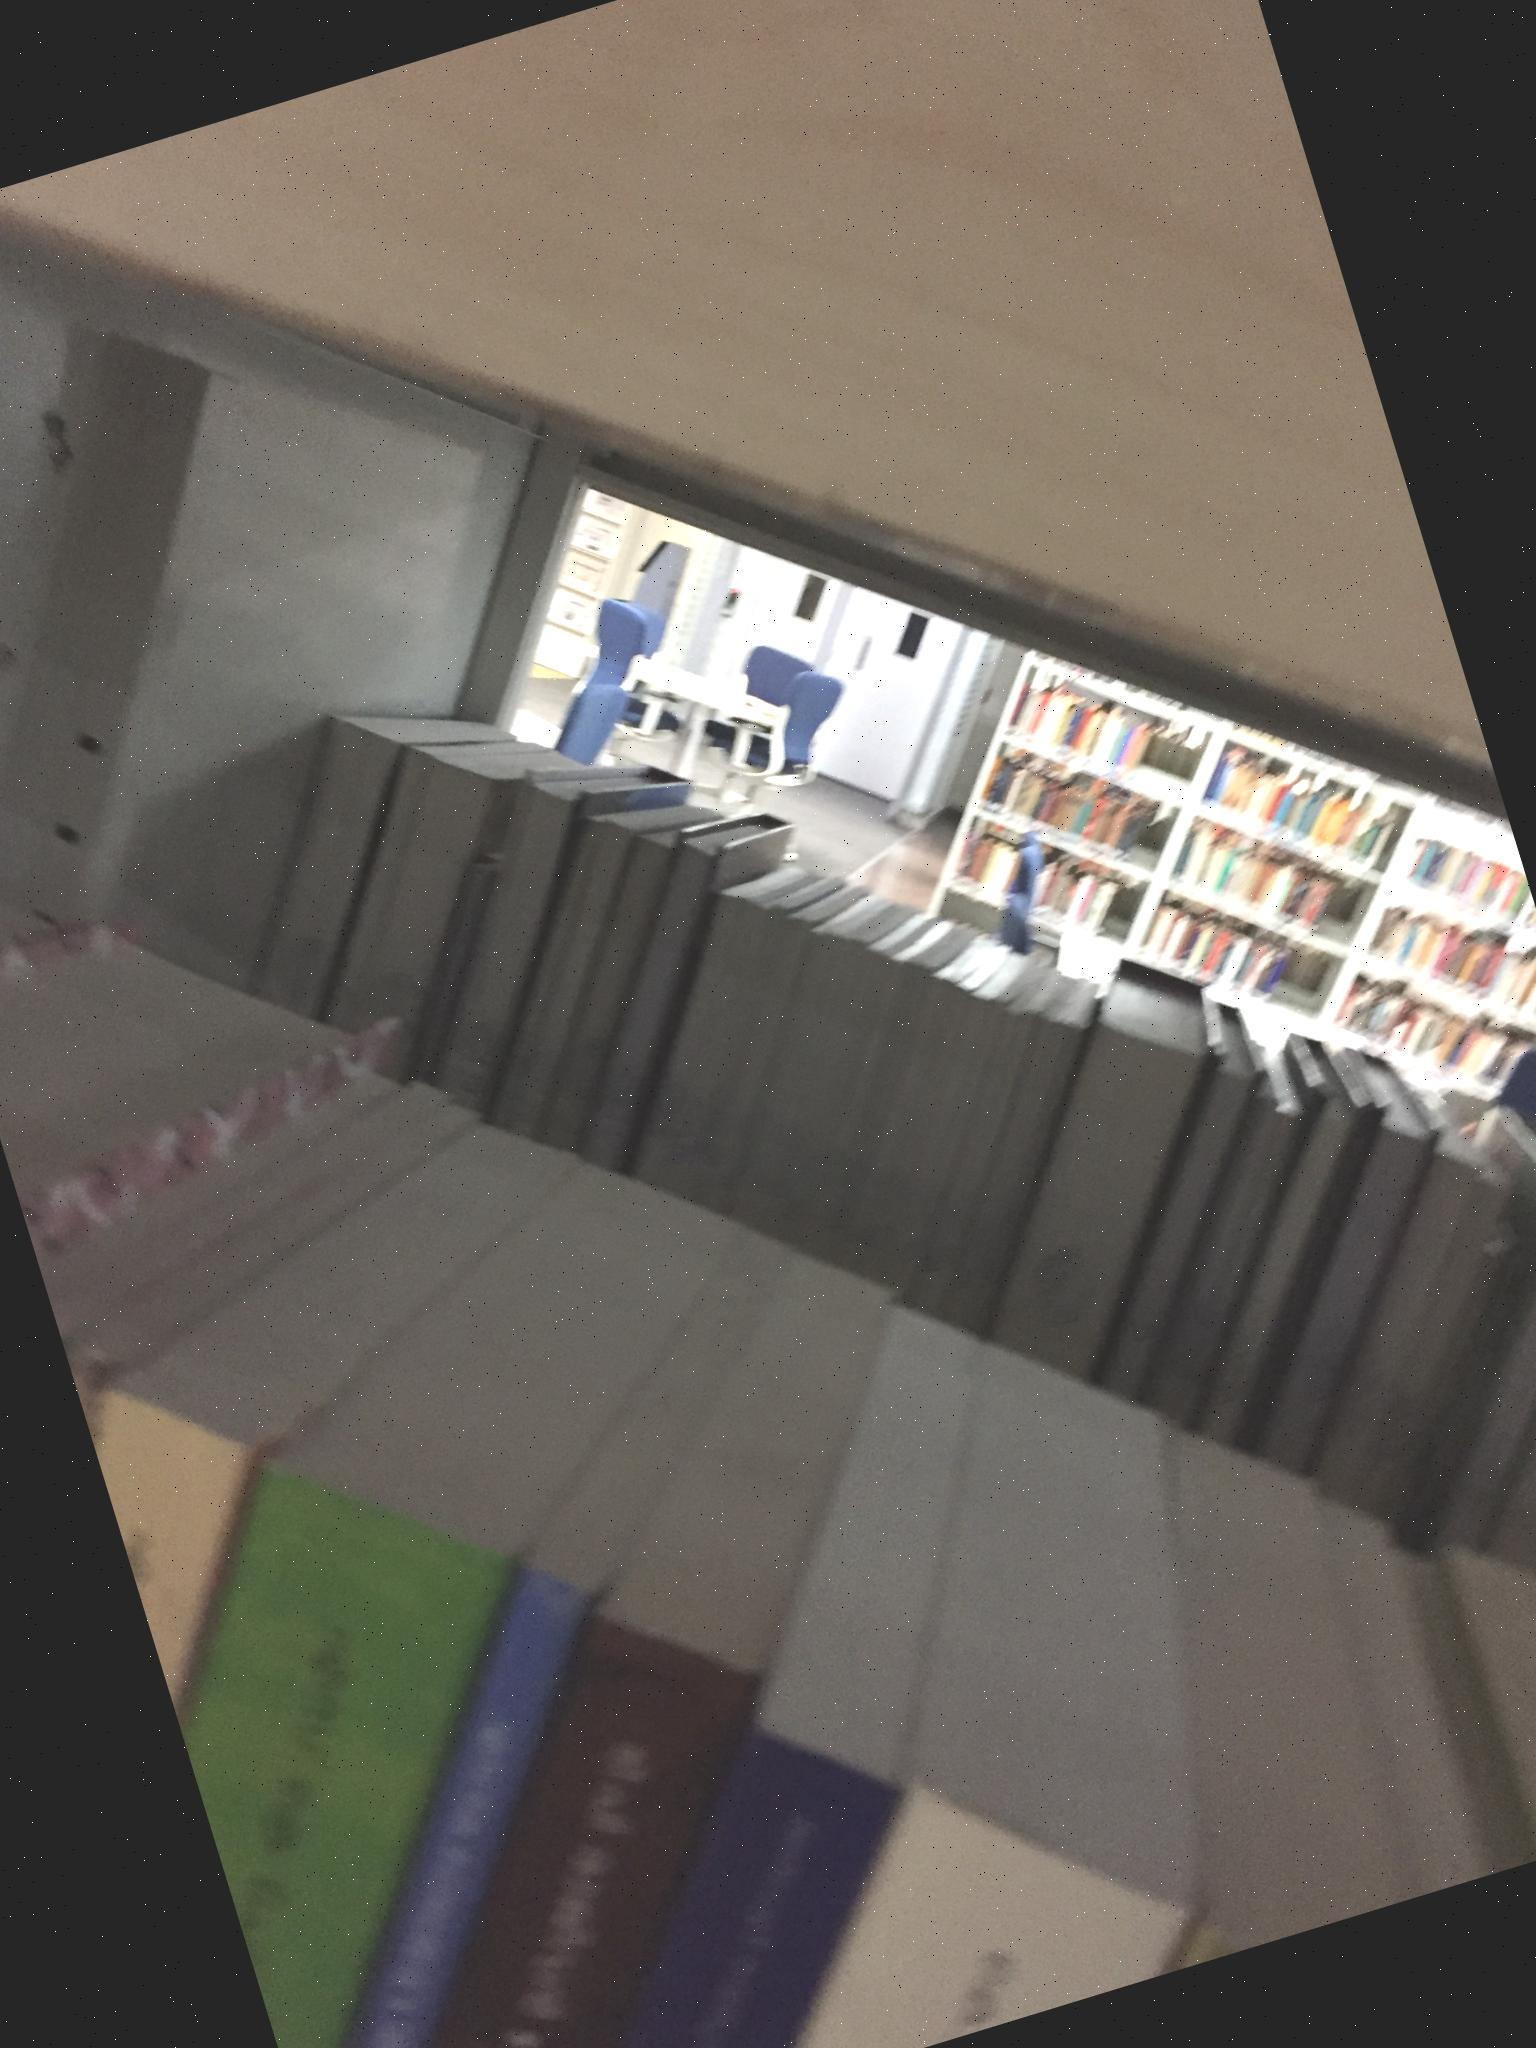chair: (497, 575, 714, 799), (707, 613, 899, 809), (961, 820, 1085, 994), (1484, 1020, 1536, 1197)
